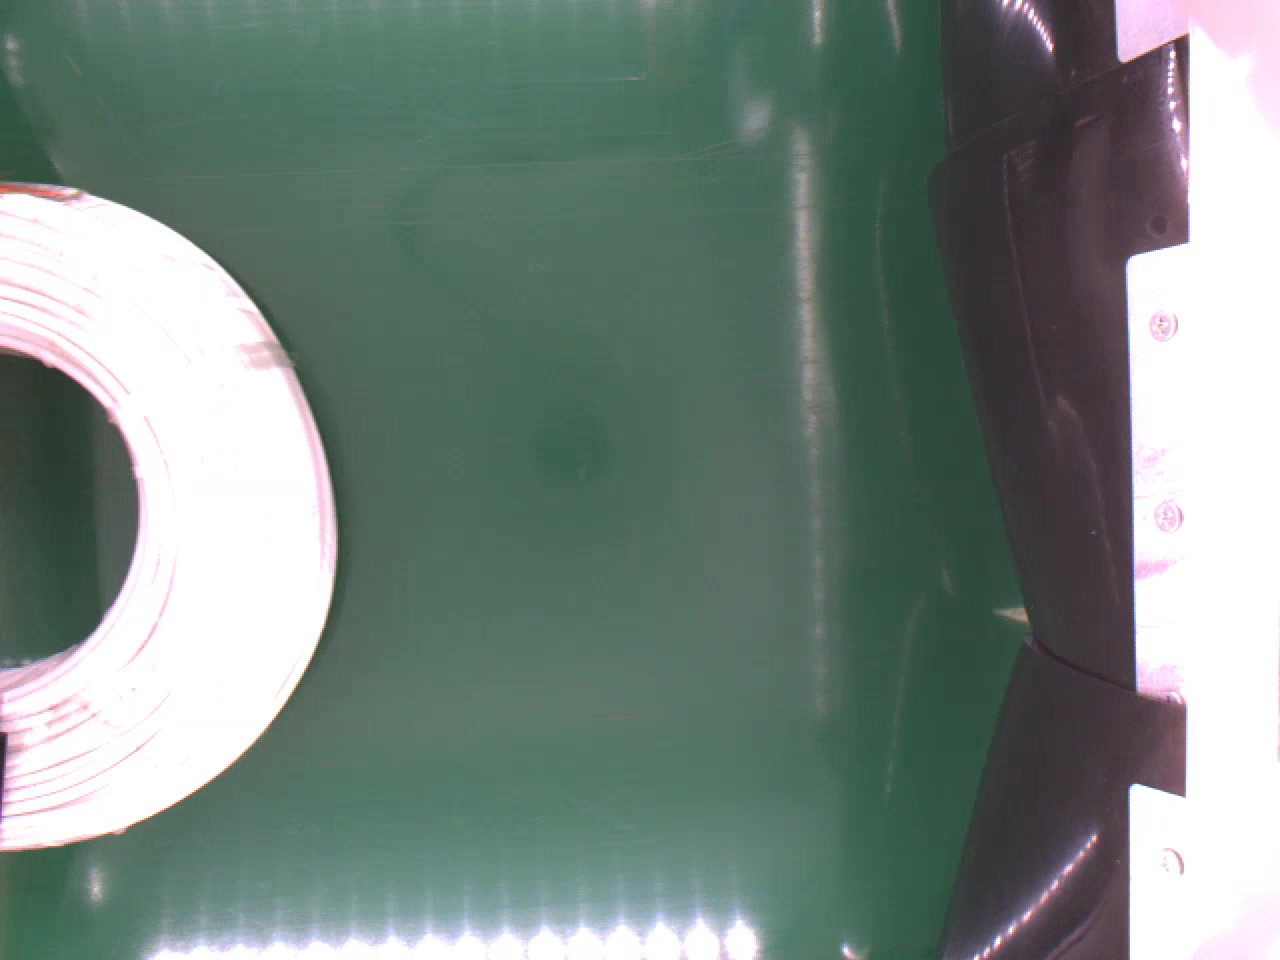white: (0, 177, 339, 856)
